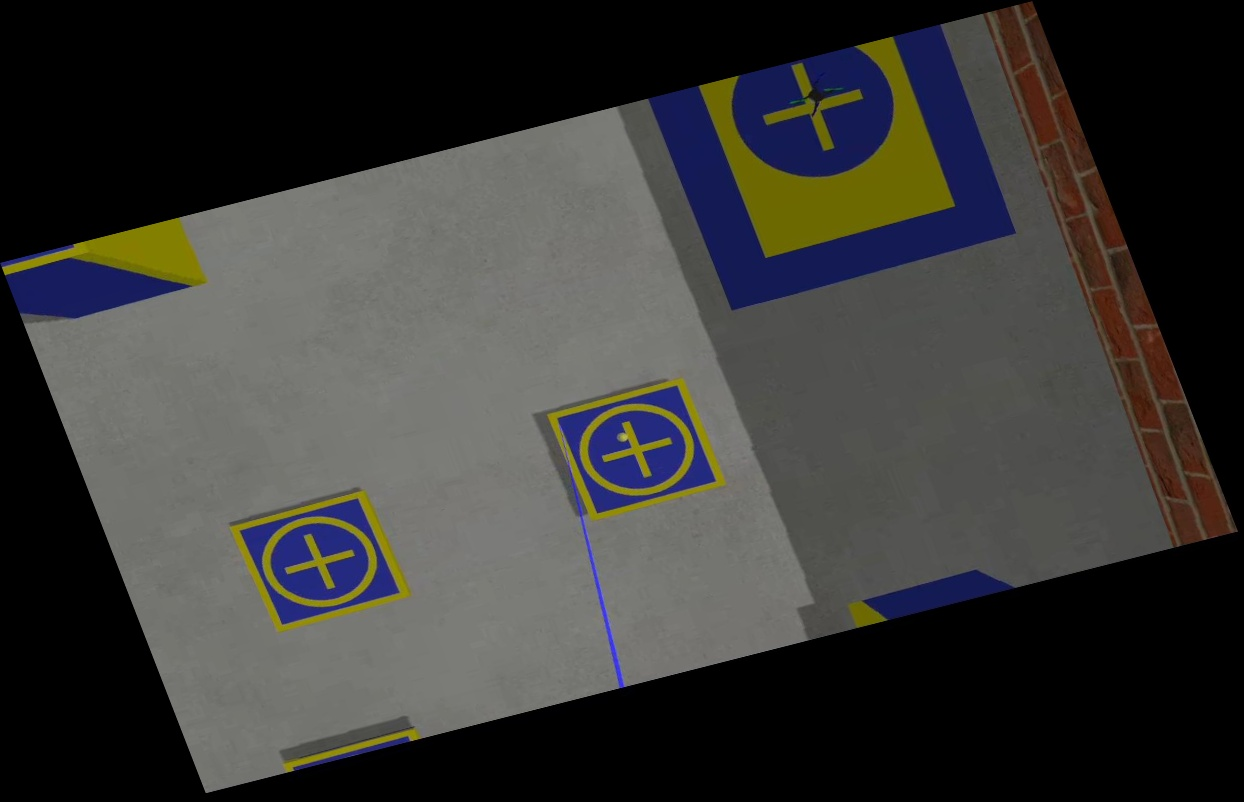large_base: (647, 24, 1021, 308)
small_base: (544, 375, 732, 525), (226, 485, 415, 633)
